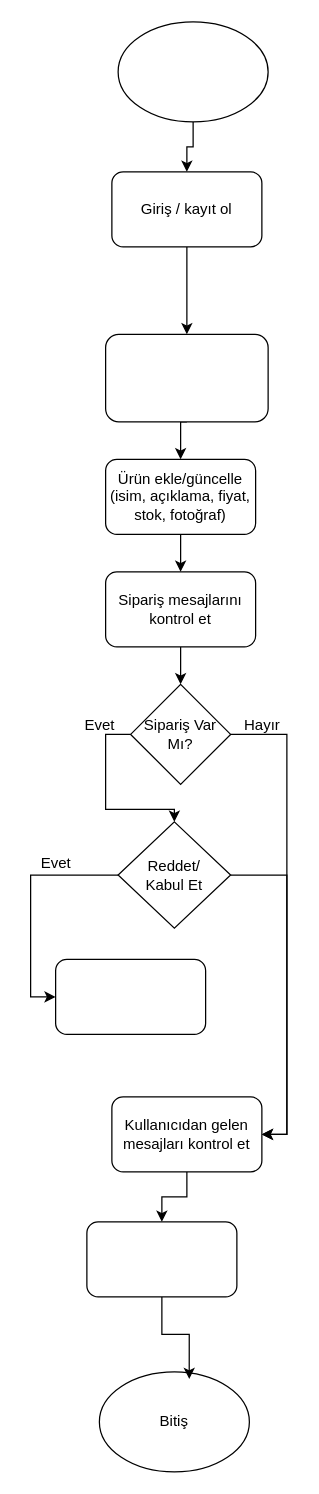
Some shapes in this 319 by 1494 pixel diagram are drawn without their labels. The centre of each missing label's shape, as x and y in pixels:
"Başla" goes at point (192, 71).
"İşletme açık/kapalı durumunu değiştir (manuel veya otomatik)" goes at point (161, 1259).
"İşletme bilgilerini yönet (ad, açıklama, adres, telefon, açık/kapalı durumu vs.)" goes at point (186, 377).
"Siparişi Gönder" goes at point (130, 996).
